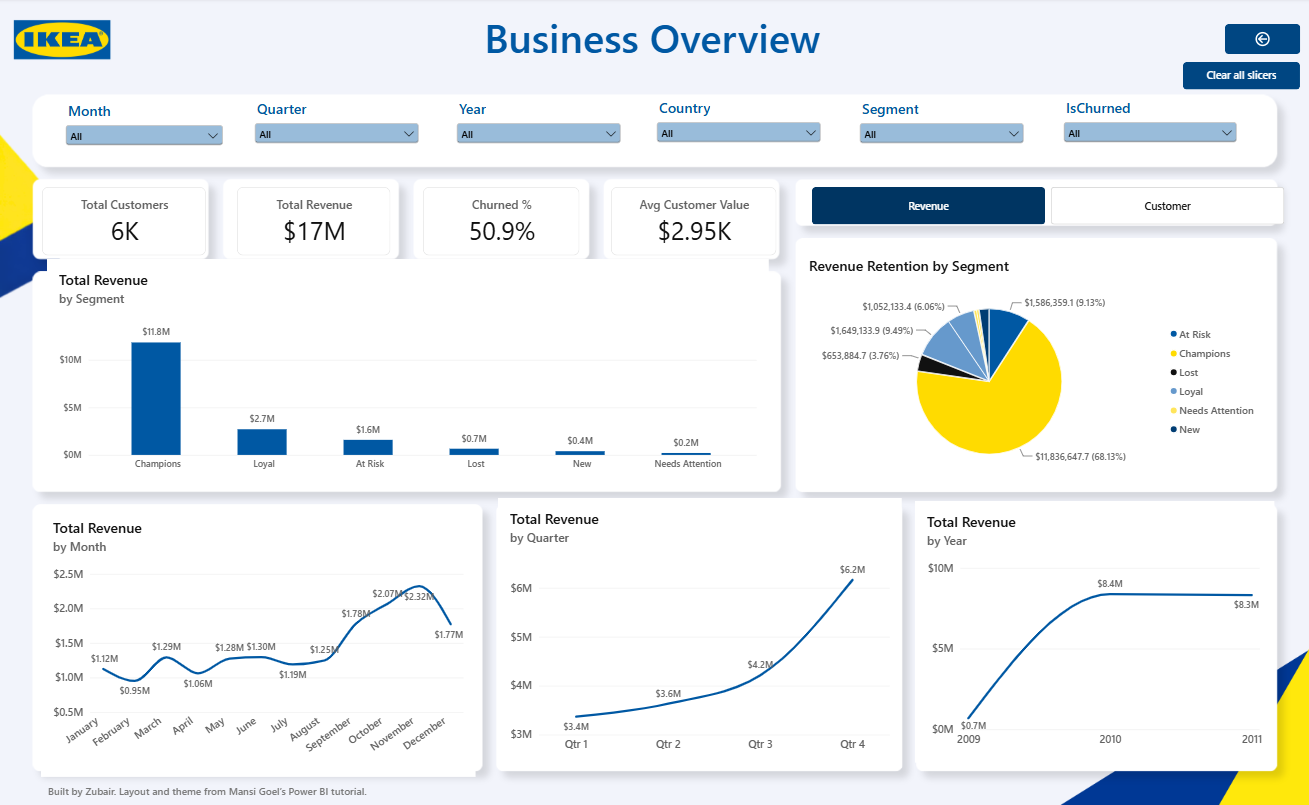

What the dashboard file says about the page in this screenshot:
{"tool":"powerbi","page":{"name":"Overview","canvas":[1920,1080],"ordinal":0},"visuals":[{"type":"cardVisual","fields":{"Data":["Sheet1.Total Customers"]},"box":[147.2,250.8,218.7,91.8],"z":0},{"type":"columnChart","fields":{"Category":["Sheet1.Segment"],"Y":["Sheet1.Total Revenue"]},"box":[155,347,960.3,301.6],"z":0,"group":"g1"},{"type":"cardVisual","fields":{"Data":["Sheet1.Total Revenue"]},"box":[406.7,250.8,204.1,91.8],"z":1000},{"type":"lineChart","fields":{"Category":["Sheet1.InvoiceDate.Variation.Date Hierarchy.Month"],"Y":["Sheet1.Total Revenue"]},"box":[146.8,677.1,577.8,358.7],"z":1000,"group":"g1"},{"type":"cardVisual","fields":{"Data":["Sheet1.Churned %"]},"box":[654.6,250.8,208.5,91.8],"z":2000},{"type":"lineChart","fields":{"Category":["Sheet1.InvoiceDate.Variation.Date Hierarchy.Quarter"],"Y":["Sheet1.Total Revenue"]},"box":[755.2,664.4,536.5,358.7],"z":2000,"group":"g1"},{"type":"cardVisual","fields":{"Data":["Sheet1.Avg Customer Value"]},"box":[903.9,250.8,220.1,91.8],"z":3000},{"type":"lineChart","fields":{"Category":["Sheet1.InvoiceDate.Variation.Date Hierarchy.Year"],"Y":["Sheet1.Total Revenue"]},"box":[1309.2,669.2,477.8,347.6],"z":3000,"group":"g1"},{"type":"pieChart","title":"Revenue Retention by Segment","fields":{"Category":["Sheet1.Segment"],"Series":["Sheet1.IsChurned"],"Y":["Sheet1.Total Revenue"]},"box":[1152,328.2,633.3,323.8],"z":3500,"group":"g1"},{"type":"slicer","fields":{"Values":["Sheet1.InvoiceDate.Variation.Date Hierarchy.Month"]},"box":[174.6,136.5,218.6,74.2],"z":4000},{"type":"slicer","fields":{"Values":["Sheet1.InvoiceDate.Variation.Date Hierarchy.Quarter"]},"box":[425.4,134.9,227.8,74.2],"z":5000},{"type":"slicer","fields":{"Values":["Sheet1.InvoiceDate.Variation.Date Hierarchy.Year"]},"box":[693.7,134.9,227.8,74.2],"z":6000},{"type":"slicer","fields":{"Values":["Sheet1.Country"]},"box":[960.3,133.3,227.8,74.2],"z":7000},{"type":"slicer","fields":{"Values":["Sheet1.Segment"]},"box":[1230.2,134.9,227.8,74.2],"z":8000},{"type":"slicer","fields":{"Values":["Sheet1.IsChurned"]},"box":[1501.6,133.3,239.7,74.6],"z":9000},{"type":"group","id":"g1","title":"Revenue","box":[146.8,328.2,1640.2,707.7],"z":11000},{"type":"bookmarkNavigator","box":[1171.4,250.8,628.6,50.8],"z":12000},{"type":"textbox","box":[1650,230,270,150],"z":13000},{"type":"textbox","box":[1650,80,270,150],"z":14000},{"type":"textbox","box":[155.6,1046,490.5,33.3],"z":15000},{"type":"image","box":[15.9,0,317.5,111.1],"z":16000},{"type":"textbox","box":[671,14.3,578,328],"z":17000},{"type":"actionButton","box":[1720.6,34.9,100,40],"z":18000},{"type":"actionButton","box":[1665.1,85.7,155.6,36.5],"z":19000}]}

Visuals, with their boxes on the page's 1920x1080 design canvas (x1, y1, x2, y2). These are canvas units, not pixel positions in the 1309x805 screenshot, which may show the page scaled, cropped or inside an application window:
cardVisual - Sheet1.Total Customers: bbox(147, 251, 366, 343)
columnChart - Sheet1.Segment x Sheet1.Total Revenue: bbox(155, 347, 1115, 649)
cardVisual - Sheet1.Total Revenue: bbox(407, 251, 611, 343)
lineChart - Sheet1.InvoiceDate.Variation.Date Hierarchy.Month x Sheet1.Total Revenue: bbox(147, 677, 725, 1036)
cardVisual - Sheet1.Churned %: bbox(655, 251, 863, 343)
lineChart - Sheet1.InvoiceDate.Variation.Date Hierarchy.Quarter x Sheet1.Total Revenue: bbox(755, 664, 1292, 1023)
cardVisual - Sheet1.Avg Customer Value: bbox(904, 251, 1124, 343)
lineChart - Sheet1.InvoiceDate.Variation.Date Hierarchy.Year x Sheet1.Total Revenue: bbox(1309, 669, 1787, 1017)
"Revenue Retention by Segment" pieChart: bbox(1152, 328, 1785, 652)
slicer - Sheet1.InvoiceDate.Variation.Date Hierarchy.Month: bbox(175, 136, 393, 211)
slicer - Sheet1.InvoiceDate.Variation.Date Hierarchy.Quarter: bbox(425, 135, 653, 209)
slicer - Sheet1.InvoiceDate.Variation.Date Hierarchy.Year: bbox(694, 135, 922, 209)
slicer - Sheet1.Country: bbox(960, 133, 1188, 208)
slicer - Sheet1.Segment: bbox(1230, 135, 1458, 209)
slicer - Sheet1.IsChurned: bbox(1502, 133, 1741, 208)
"Revenue" group: bbox(147, 328, 1787, 1036)
bookmarkNavigator: bbox(1171, 251, 1800, 302)
textbox: bbox(1650, 230, 1920, 380)
textbox: bbox(1650, 80, 1920, 230)
textbox: bbox(156, 1046, 646, 1079)
image: bbox(16, 0, 333, 111)
textbox: bbox(671, 14, 1249, 342)
actionButton: bbox(1721, 35, 1821, 75)
actionButton: bbox(1665, 86, 1821, 122)
